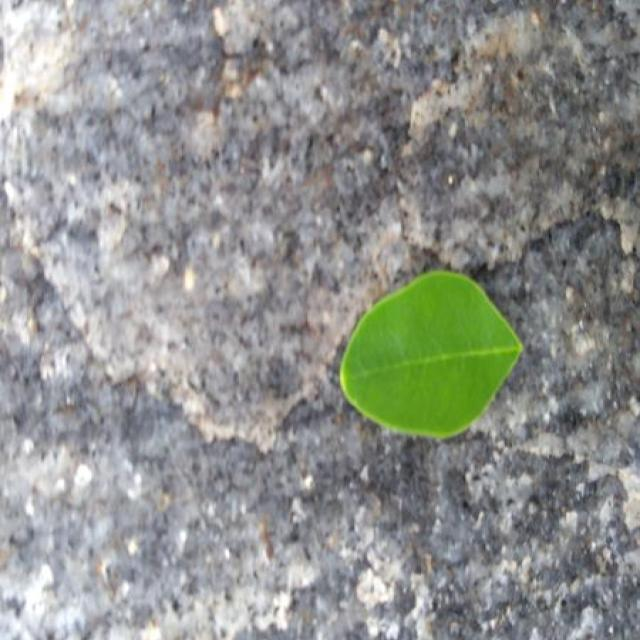drumstick: (340, 271, 523, 438)
